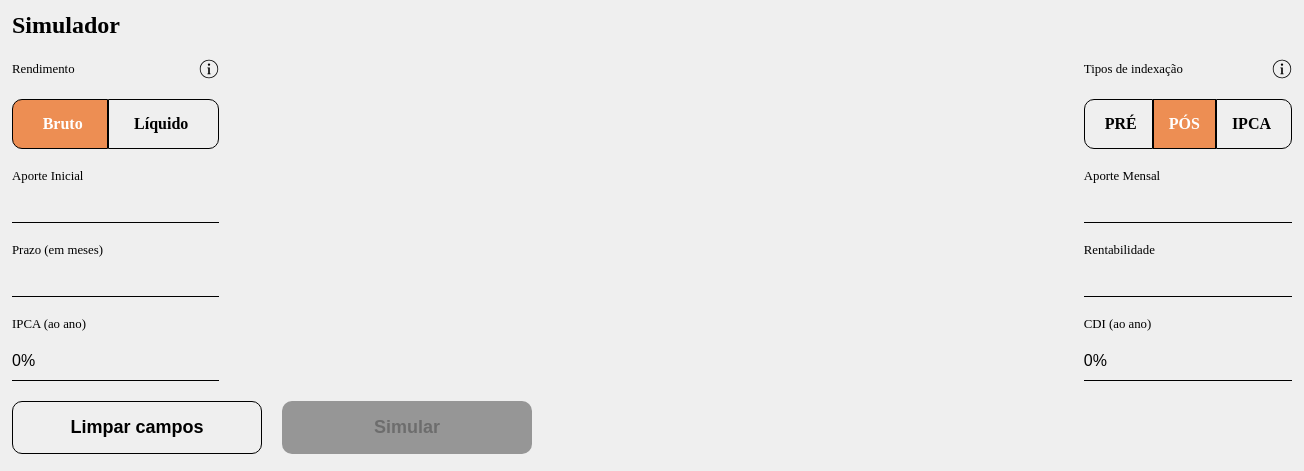
Scenario: Simulator component › has submit enabled with all numeric inputs
The image size is (1304, 471).
Type "10" into the field named "Aporte Inicial" at (116, 208), box [12,194,219,223]
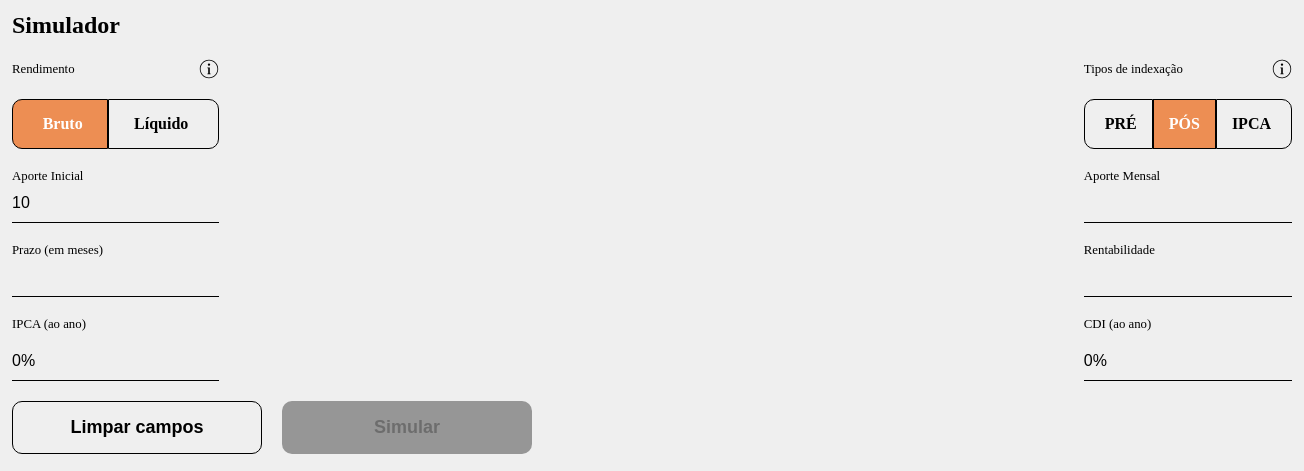
Type "10" into the field named "Prazo (em meses)" at (116, 282), box [12,268,219,297]
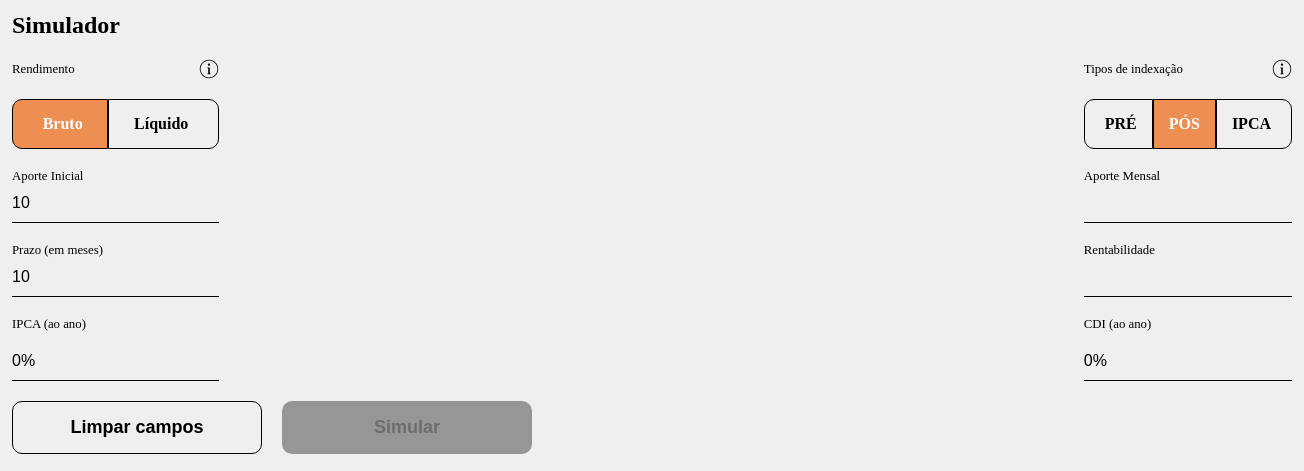
Type "10" into the field named "Aporte Mensal" at (1188, 208), box [1084,194,1292,223]
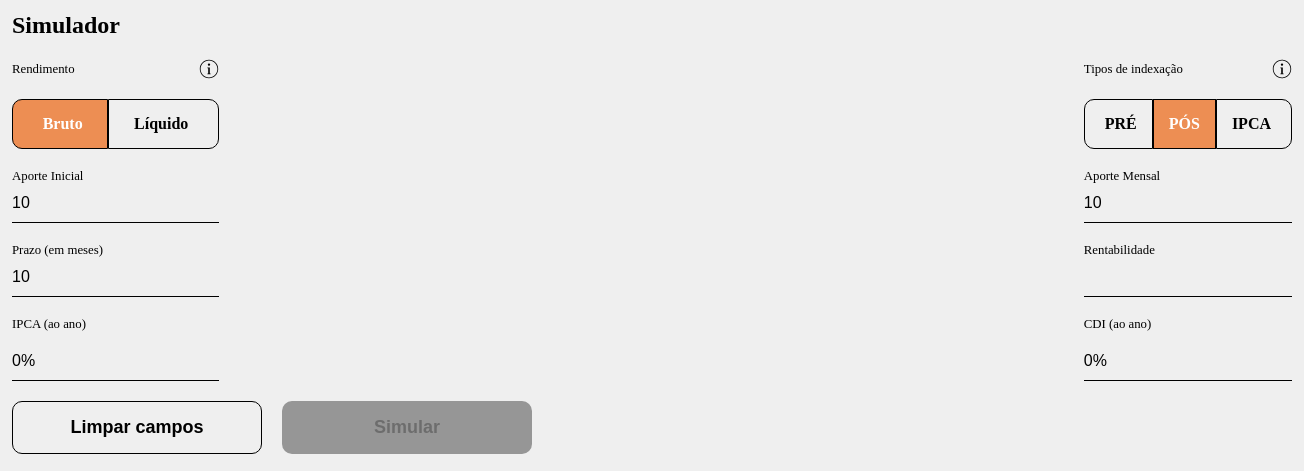
Type "10" into the field named "Rentabilidade" at (1188, 282), box [1084,268,1292,297]
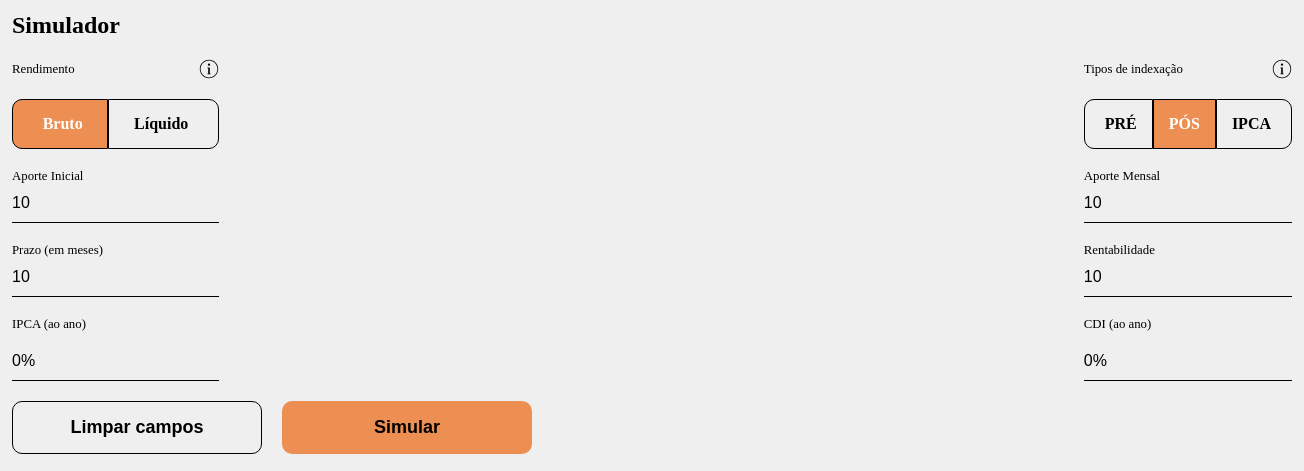
Expected: the button "Simular" is enabled, [282,401,532,454]
